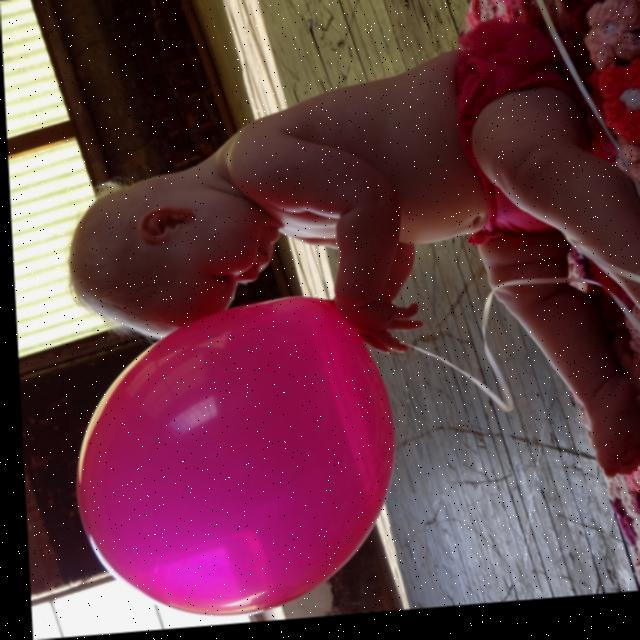balloon: (65, 292, 388, 629)
